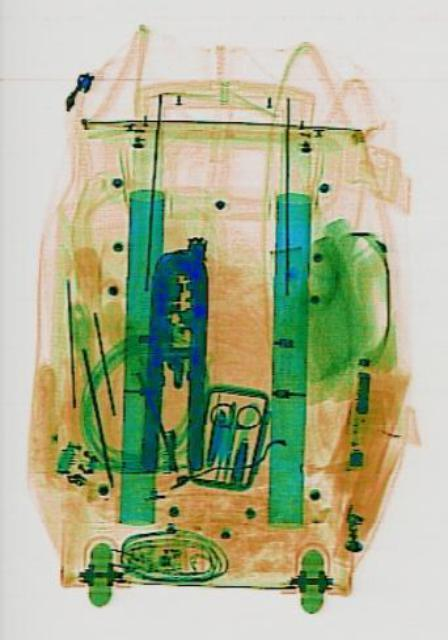Pliers: (139, 244, 210, 470)
Scissors: (201, 394, 261, 484)
